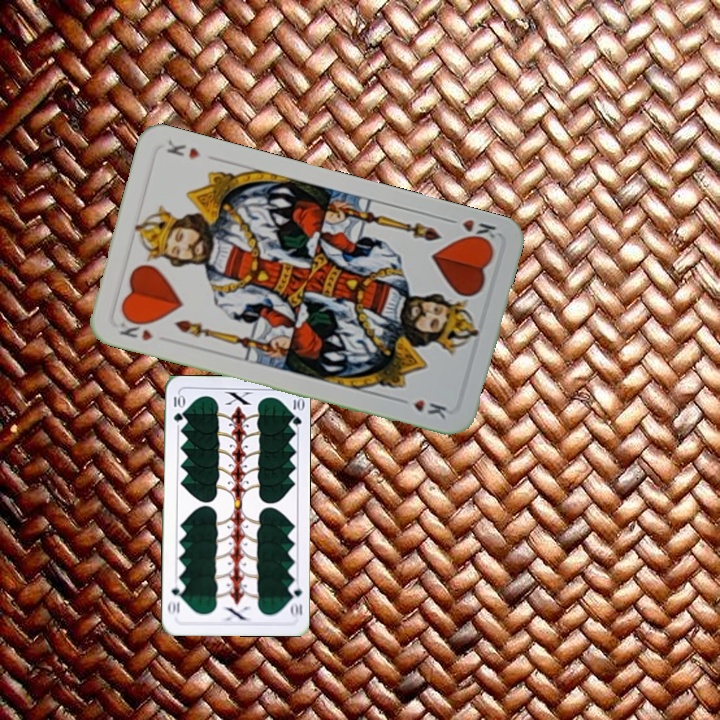G10: (285, 579, 305, 620), (170, 390, 185, 424)
HK: (442, 214, 500, 248), (115, 313, 155, 344)
